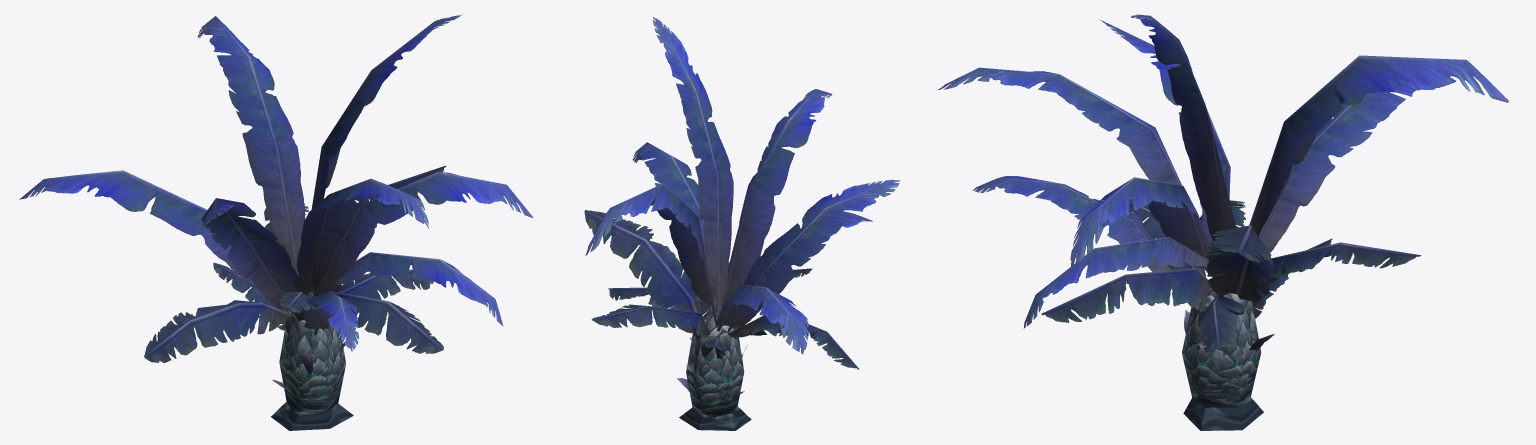
Rendered from zc_lekesigang_daguanmu01.FBX.
3 renders of one model, left to right at view 1: azimuth 30°, elevation 25°; view 2: azimuth 150°, elevation 25°; view 3: azimuth 270°, elevation 25°, orthographic. The views are drawn at different scales.
Parts seen in each view (by area): view 1: zc_lekesigang_daguanmu01; view 2: zc_lekesigang_daguanmu01; view 3: zc_lekesigang_daguanmu01.
Boxes of the visible parts, bbox=[...] form: zc_lekesigang_daguanmu01: bbox=[19, 14, 532, 430]; zc_lekesigang_daguanmu01: bbox=[584, 17, 900, 430]; zc_lekesigang_daguanmu01: bbox=[938, 14, 1510, 430].
Size of the model in its own units: 502 by 540 by 629.
Materials: 1 (1 with a texture image).
